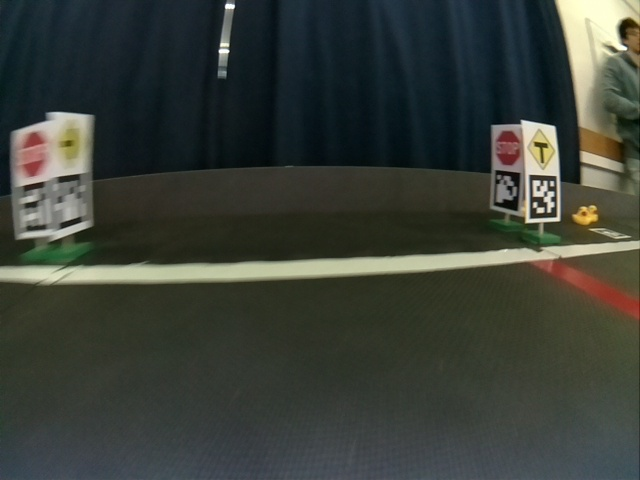Duckie: (573, 206, 588, 224), (589, 205, 598, 221)
Intersection sign: (527, 128, 557, 172)
QR code: (52, 173, 91, 232), (16, 181, 49, 231), (528, 175, 558, 220), (493, 170, 520, 212), (590, 227, 630, 239)
Stop sign: (16, 131, 48, 176), (494, 129, 522, 167)
